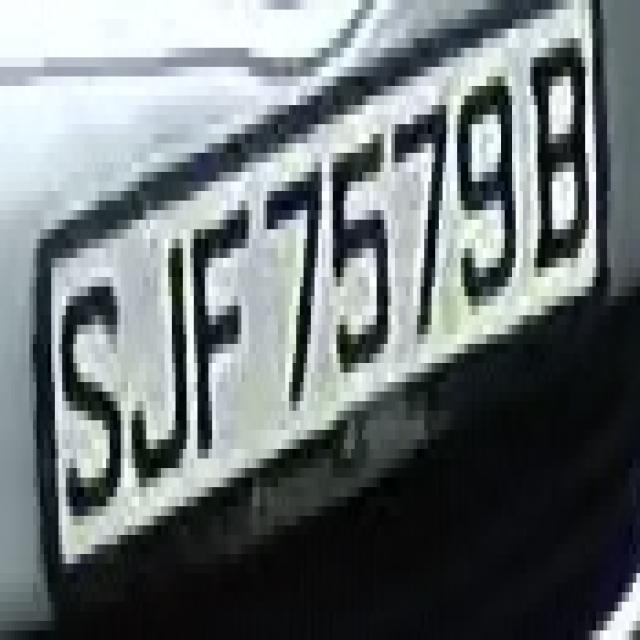5: (326, 134, 398, 382)
7: (256, 153, 325, 439), (381, 95, 454, 354)
9: (450, 67, 523, 306)
B: (527, 28, 607, 286)
F: (193, 191, 260, 468)
J: (120, 220, 198, 487)
S: (48, 258, 124, 525)
